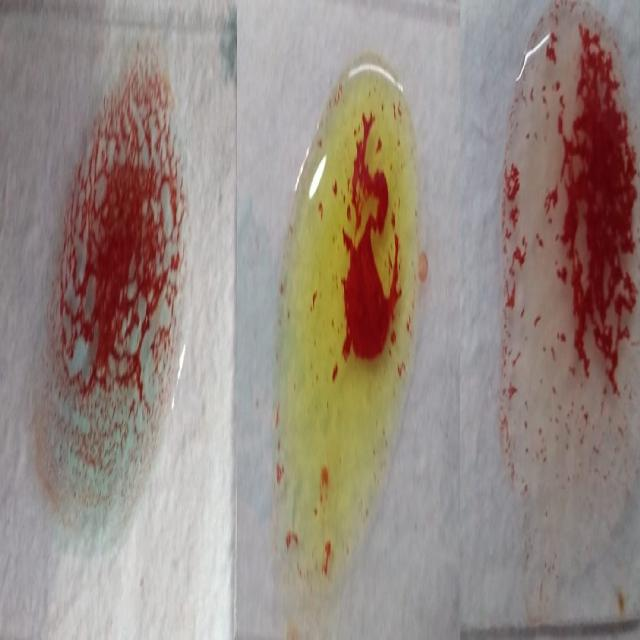A: (34, 41, 185, 556)
B: (274, 61, 416, 582)
D: (499, 8, 640, 572)
